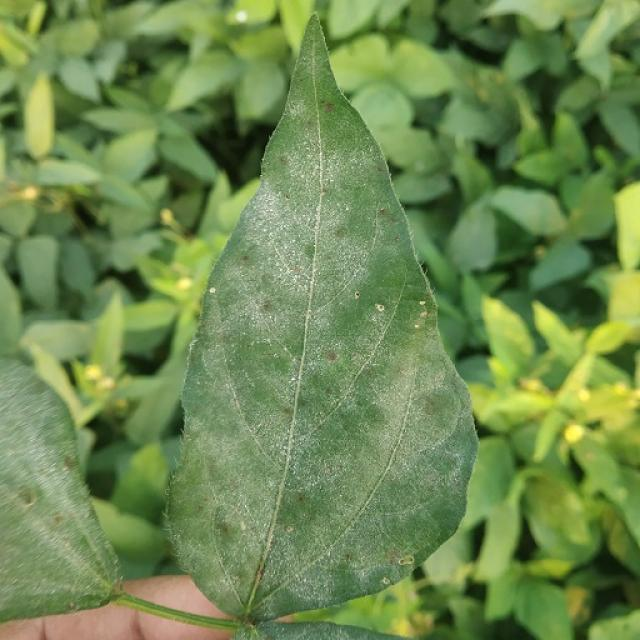Blackgram: (166, 19, 475, 620)
Powdery_Mildew: (286, 379, 376, 491), (283, 279, 368, 386), (272, 124, 353, 230), (279, 540, 371, 611), (254, 211, 321, 301), (245, 303, 300, 367), (264, 216, 310, 290), (289, 375, 296, 384)
